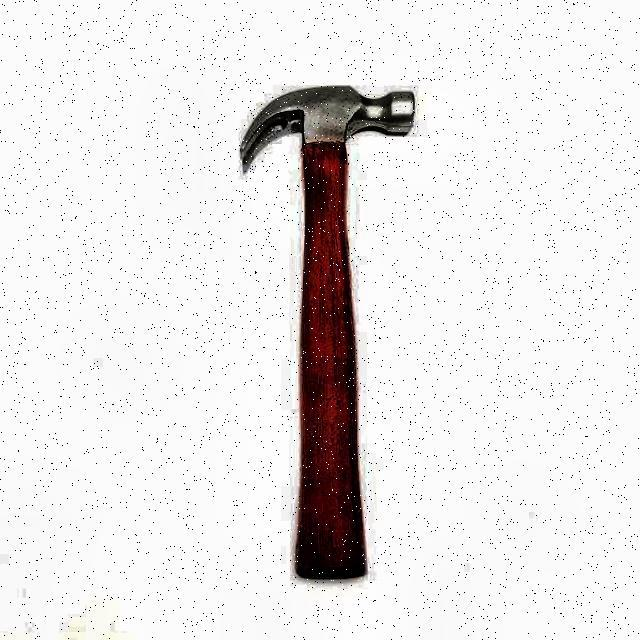hammer: (243, 83, 417, 581)
